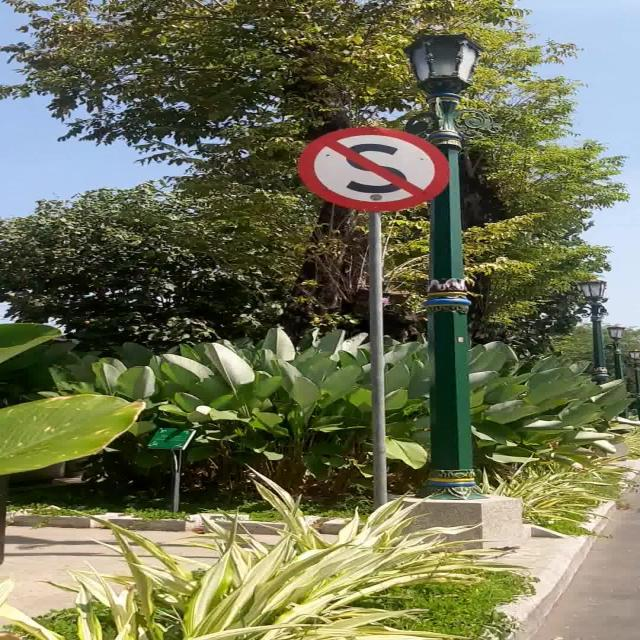Dilarang Berhenti: (298, 126, 450, 212)
